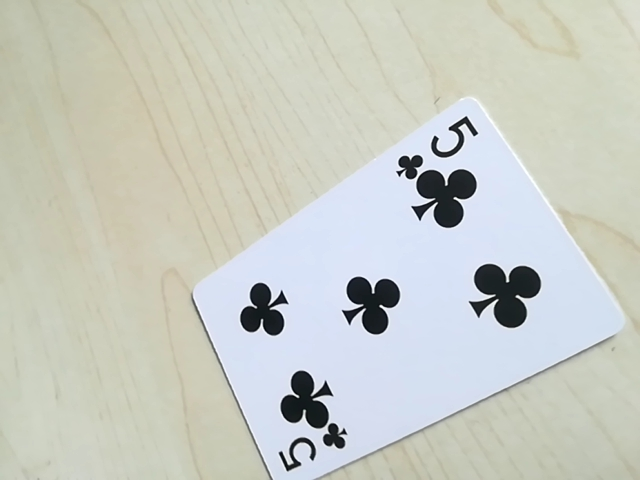mh 5: (397, 115, 478, 176), (269, 425, 348, 479)
